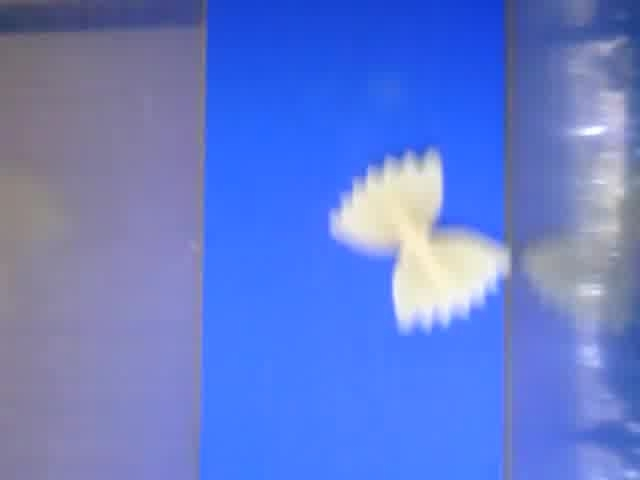farfalle: (330, 150, 515, 333)
